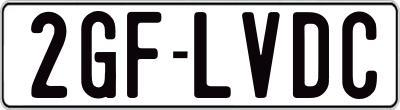2: (31, 11, 71, 102)
C: (340, 11, 380, 100)
D: (290, 12, 327, 101)
F: (125, 12, 164, 100)
G: (81, 9, 121, 99)
L: (191, 10, 230, 101)
V: (239, 10, 277, 102)
